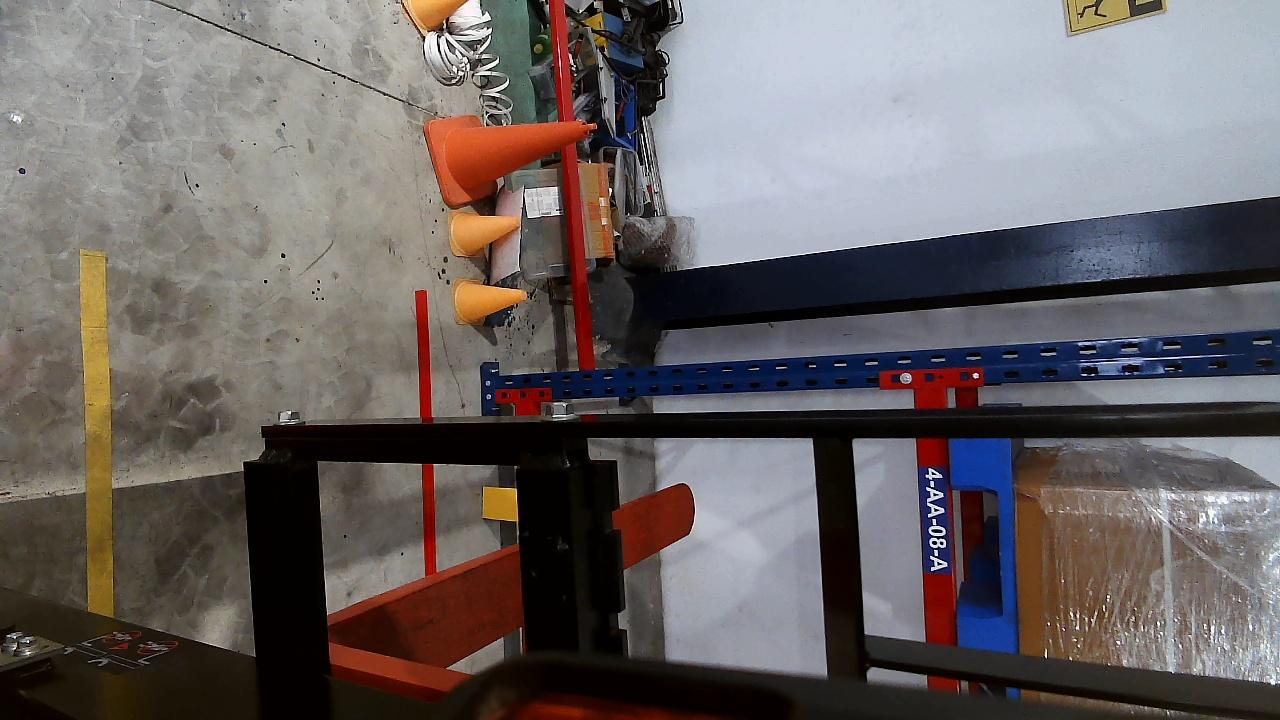h_rack: (914, 387, 962, 646)
red_line: (417, 293, 435, 574)
small_pallet: (947, 441, 1021, 652)
yellow_line: (79, 249, 113, 616)
